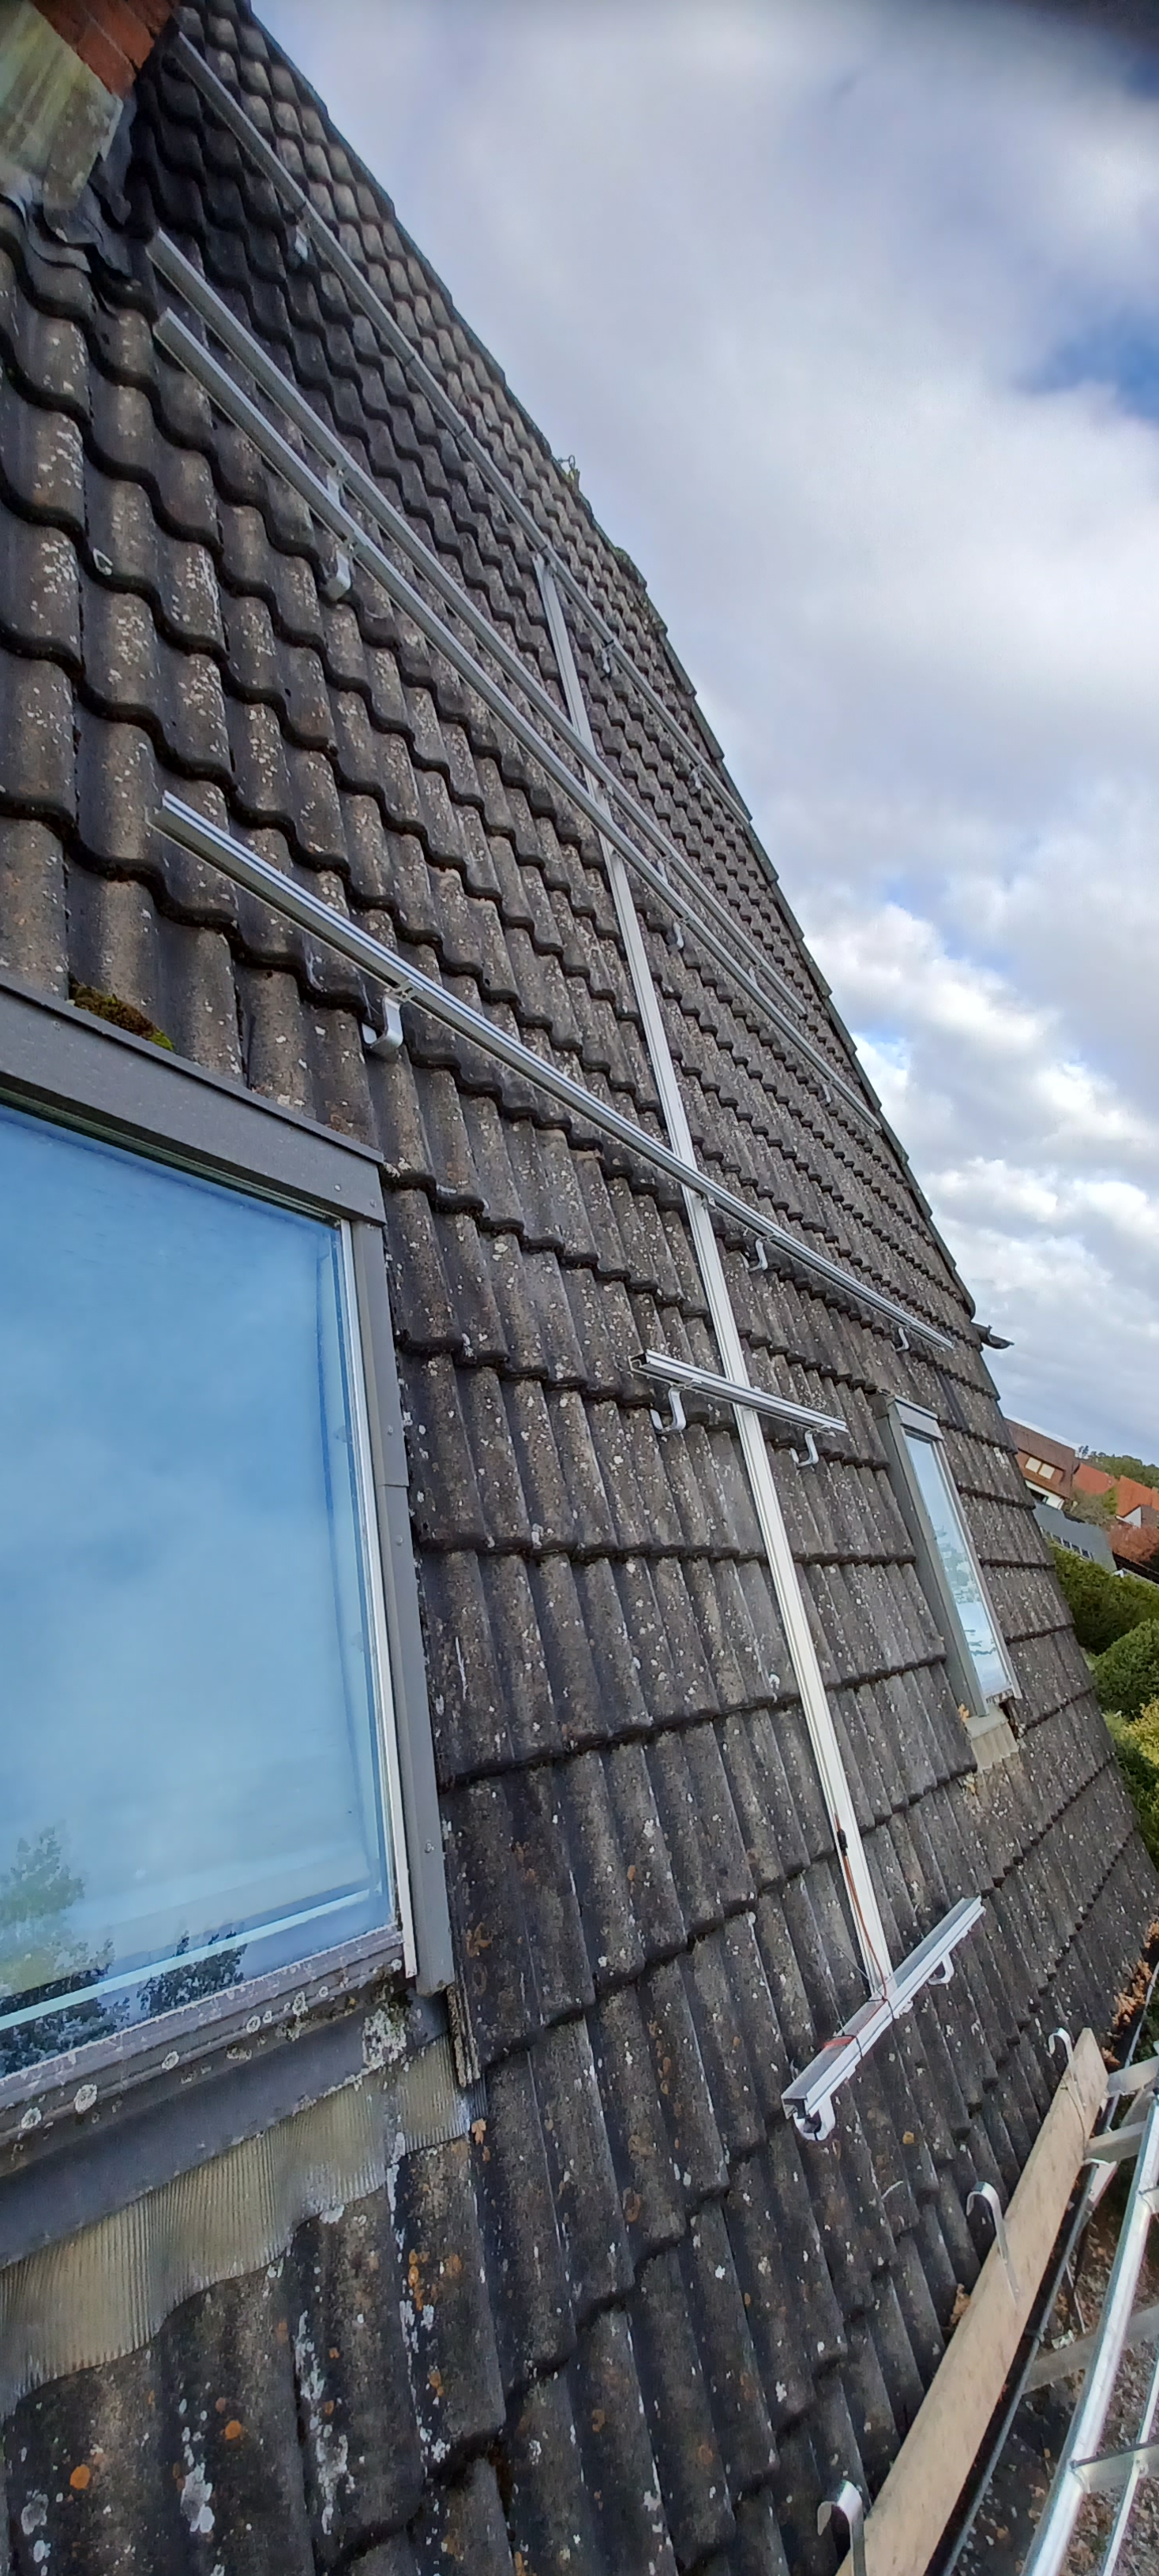hook: (360, 979, 424, 1056), (319, 529, 367, 603), (649, 1380, 702, 1434), (284, 212, 321, 269), (791, 1424, 832, 1467), (740, 1232, 779, 1275), (326, 455, 357, 508), (666, 915, 694, 953), (598, 639, 618, 678), (656, 849, 677, 884), (889, 1324, 914, 1350), (686, 762, 702, 795), (820, 1076, 837, 1107), (748, 963, 766, 986)
